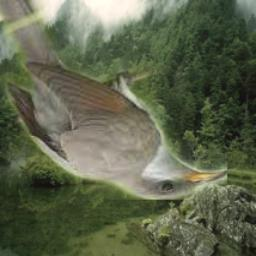Cuckoo: (0, 0, 227, 201)
